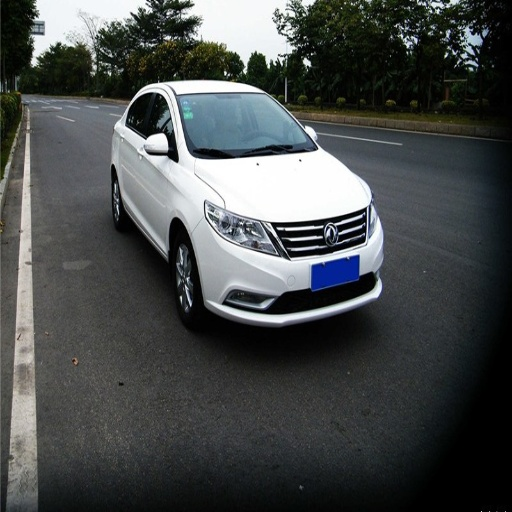front_bumper: (194, 205, 385, 327)
front_right_door: (133, 89, 174, 239)
front_right_light: (205, 197, 278, 253)
